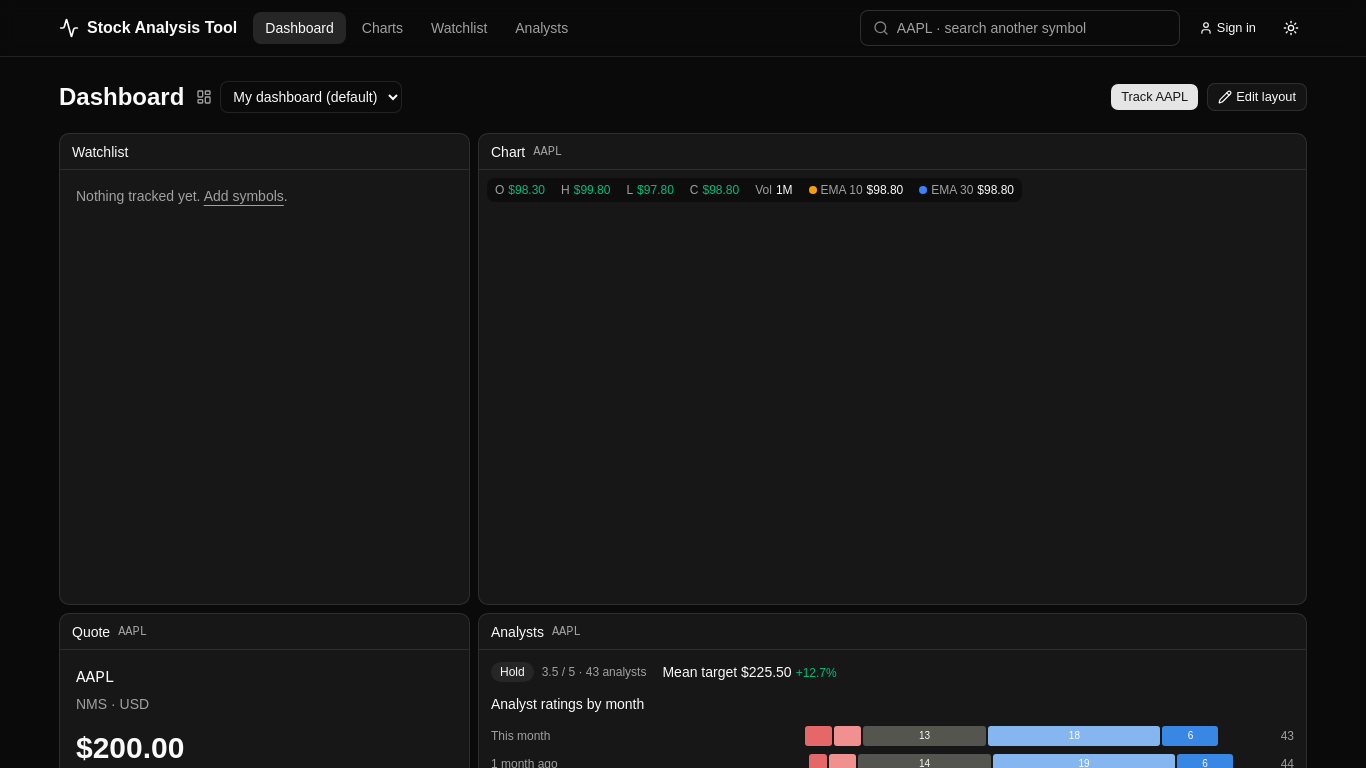
Test: ticker flow › loads the quote card for ?t= and keeps the ticker across tabs
Expected: the text "$200.00" is shown, x1=76 y1=731 x2=184 y2=764
Click the link "Charts".
click(382, 28)  # box x1=362 y1=20 x2=403 y2=36
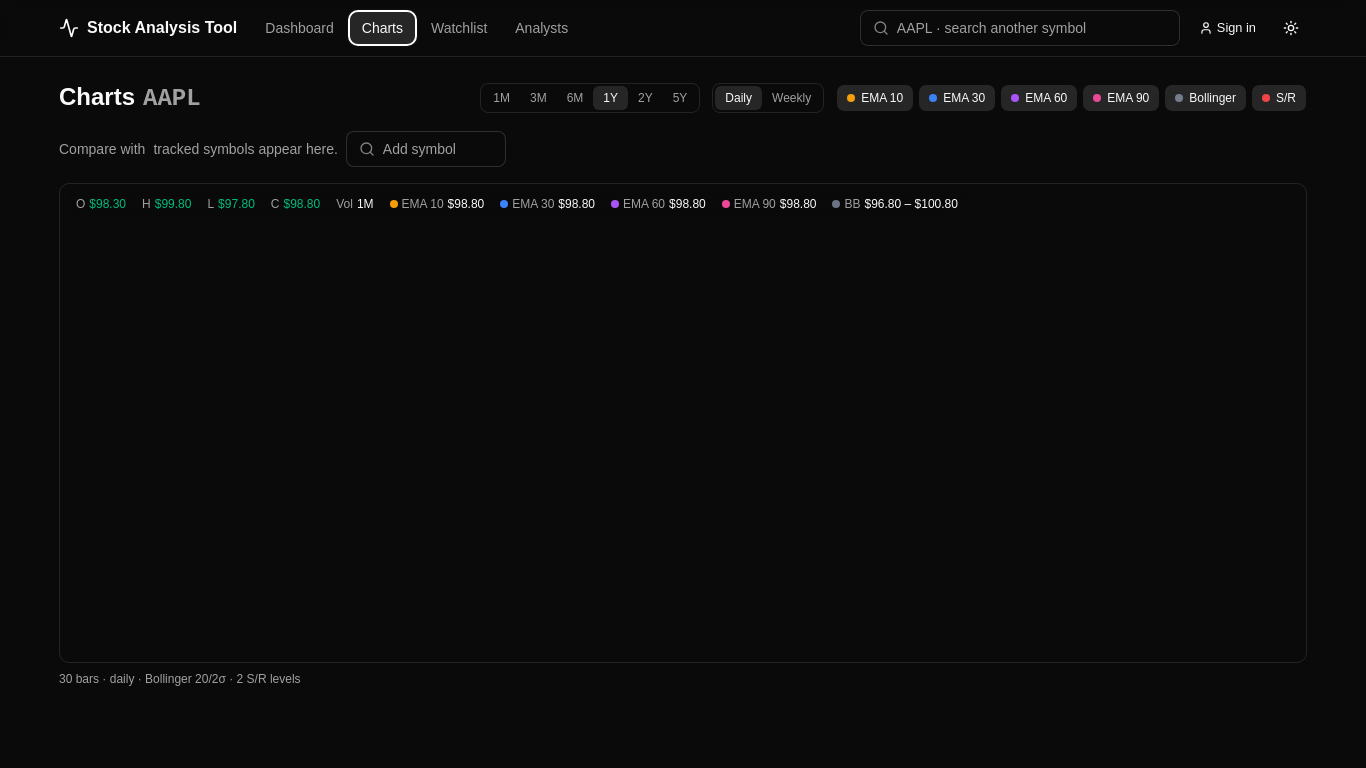
Expected: the element with test id "price-chart" is shown, x1=59 y1=183 x2=1307 y2=663
Now the heading is shown, box x1=59 y1=81 x2=201 y2=115
